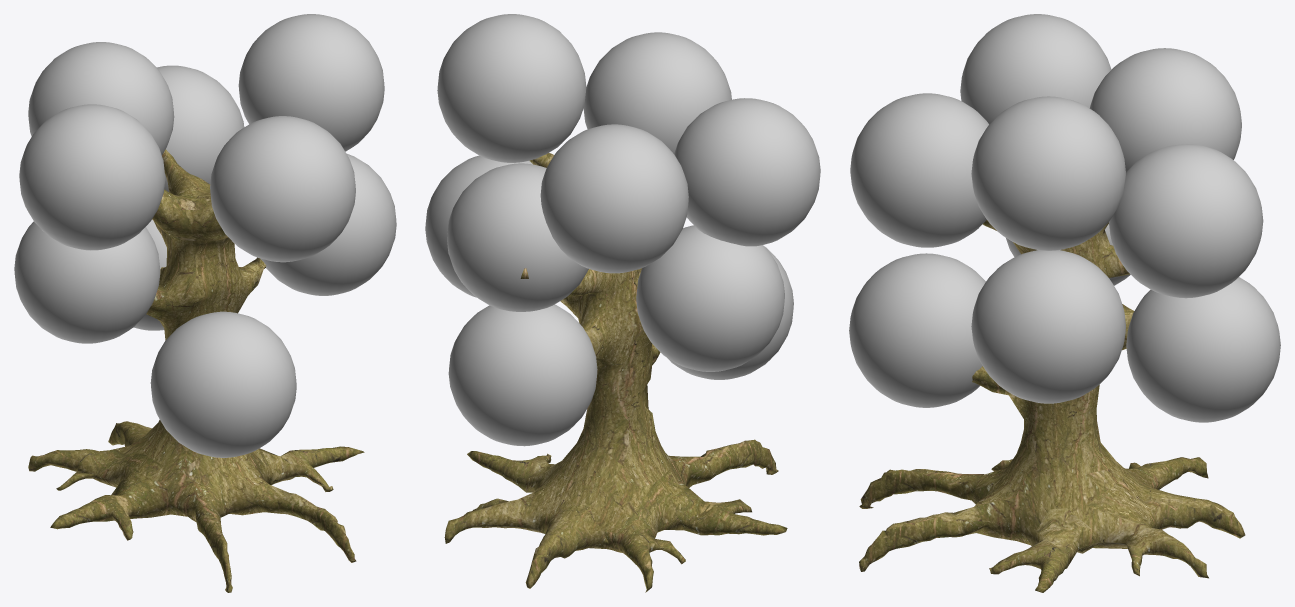
The model's file is Arbol_01.fbx.
3 views of the same model, side by side, from view 1: azimuth 30°, elevation 25°; view 2: azimuth 150°, elevation 25°; view 3: azimuth 270°, elevation 25° (orthographic). The views are drawn at different scales.
Parts seen in each view (by area): view 1: Sphere.009, Sphere; view 2: Sphere.009, Sphere; view 3: Sphere.009, Sphere.
Part boxes in pixels (<box>): Sphere.009: <box>14,14,396,457</box>; Sphere: <box>28,149,364,592</box>; Sphere.009: <box>425,14,820,446</box>; Sphere: <box>444,153,787,592</box>; Sphere.009: <box>849,14,1280,422</box>; Sphere: <box>859,220,1245,592</box>.
Bounding box in the file's own units: 573 × 703 × 558.
